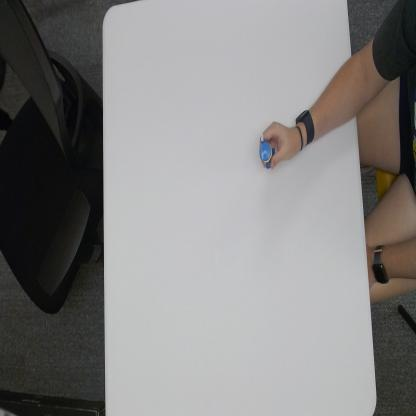Arm: (315, 52, 358, 131)
Hand: (257, 118, 295, 168)
